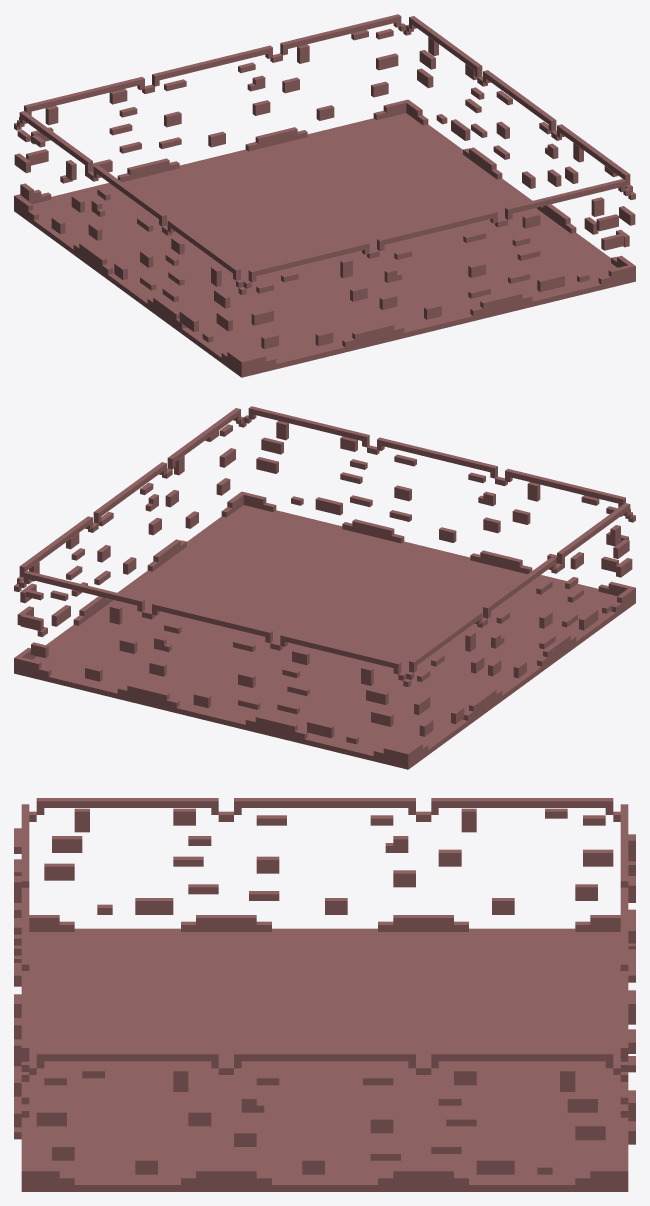
Rendered from archero-0.obj.
3 renders of one model, top to bottom at view 1: azimuth 30°, elevation 25°; view 2: azimuth 150°, elevation 25°; view 3: azimuth 270°, elevation 25°, orthographic. The views are drawn at different scales.
Size of the model in its own units: 8.2 by 2 by 8.2.
1 material, 1 textured.
